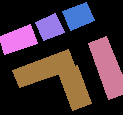parkingspot: (12, 49, 74, 87), (88, 36, 123, 99), (58, 65, 91, 110), (0, 24, 37, 54), (62, 2, 94, 30), (35, 13, 64, 40)
